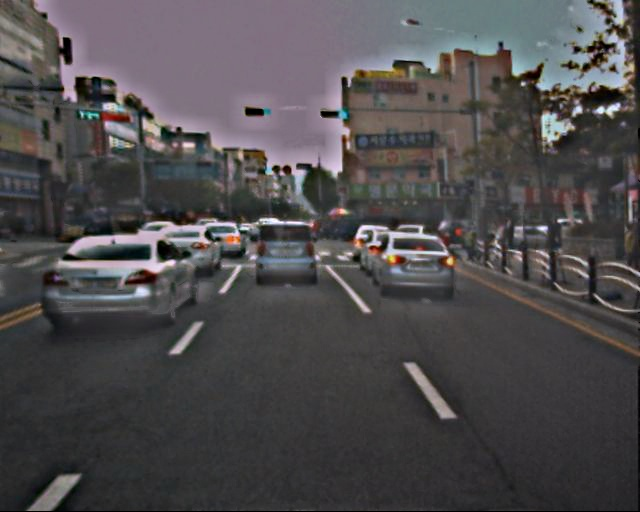person: (619, 226, 637, 271), (461, 222, 478, 264), (547, 214, 564, 255), (501, 215, 516, 252)
